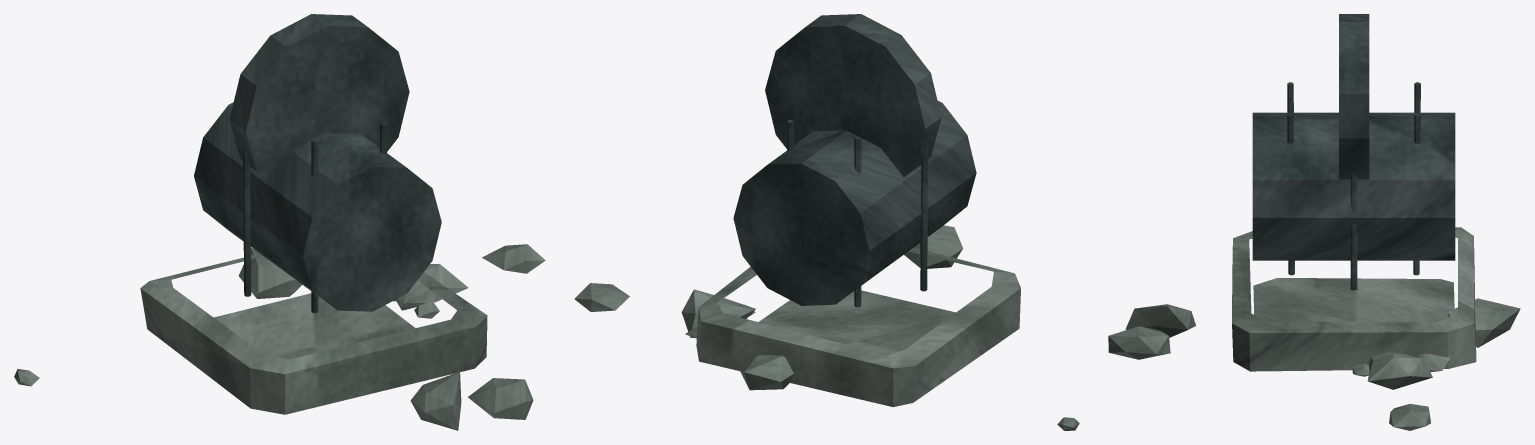
Rendered from 0269_broken_column_19.glb.
The picture shows the model from 3 angles, left to right: view 1: azimuth 30°, elevation 25°; view 2: azimuth 150°, elevation 25°; view 3: azimuth 270°, elevation 25°; orthographic projection. The views are drawn at different scales.
Parts seen in each view (by area): view 1: stone_dark, stone; view 2: stone_dark, stone; view 3: stone_dark, stone.
Boxes of the visible parts, left/top/right/bottom form: stone_dark: left=194, top=14, right=441, bottom=313; stone: left=14, top=244, right=545, bottom=430; stone_dark: left=733, top=14, right=976, bottom=307; stone: left=574, top=225, right=1079, bottom=430; stone_dark: left=1252, top=14, right=1455, bottom=290; stone: left=1108, top=227, right=1520, bottom=430.
Bounding box in the file's own units: 2.7 × 1.67 × 2.03.
Materials: 2 (2 with a texture image).
